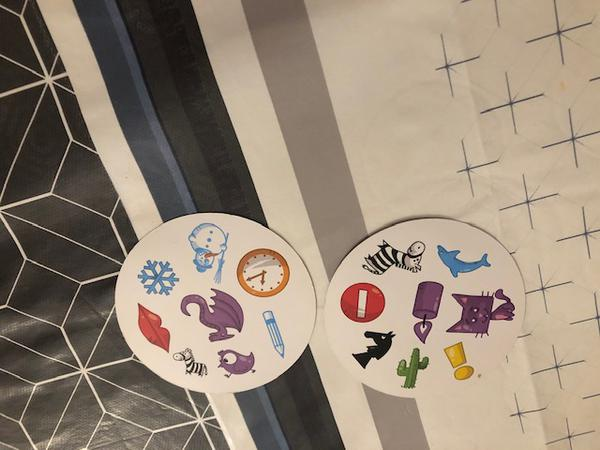bonhomme_neige: (183, 217, 231, 285)
bouche: (138, 306, 177, 352)
bougie: (408, 278, 444, 343)
cactus: (394, 346, 430, 391)
chat: (440, 285, 520, 338)
cheval: (351, 326, 395, 373)
crayon: (260, 309, 287, 359)
dauphin: (432, 238, 494, 281)
dragon: (181, 284, 251, 343)
flocon: (136, 253, 184, 296)
horloge: (236, 243, 295, 297)
oiseau: (215, 350, 259, 379)
point_exclamation: (441, 339, 482, 385)
sens_interdit: (336, 280, 388, 326)
zebre: (357, 233, 430, 278), (171, 343, 212, 376)
